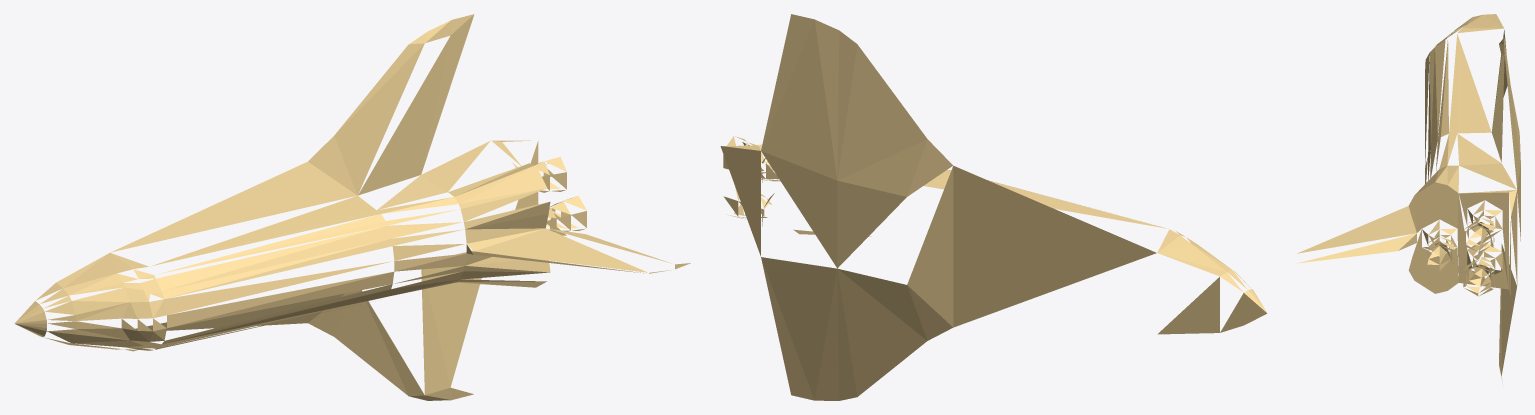
Rendered from shuttle.gltf.
The picture shows the model from 3 angles, left to right: view 1: azimuth 30°, elevation 25°; view 2: azimuth 150°, elevation 25°; view 3: azimuth 270°, elevation 25°; orthographic projection. The views are drawn at different scales.
Bounding box in the file's own units: 14.69 × 9.36 × 5.51.
